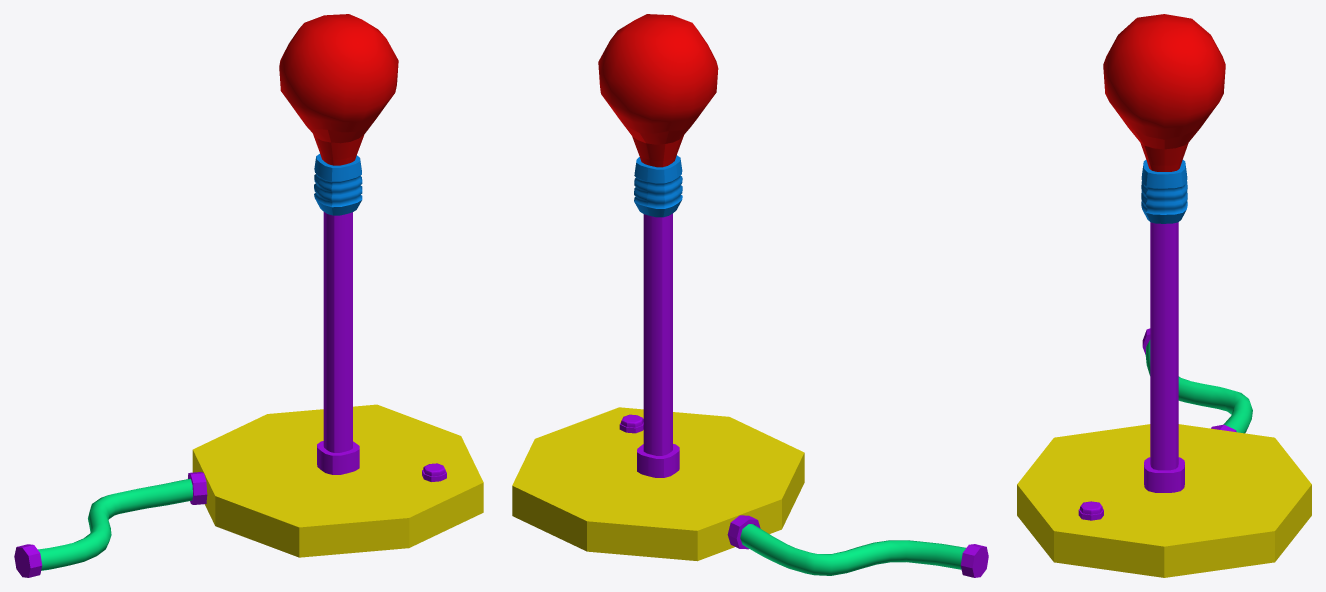
File: nightlamp_high.fbx
3 renders of one model, left to right at view 1: azimuth 30°, elevation 25°; view 2: azimuth 150°, elevation 25°; view 3: azimuth 270°, elevation 25°, orthographic. The views are drawn at different scales.
Parts seen in each view (by area): view 1: geo_nighttablelamp_low; view 2: geo_nighttablelamp_low; view 3: geo_nighttablelamp_low.
Boxes of the visible parts, box(x1,y1,x2,y2) form: geo_nighttablelamp_low: box(14, 14, 483, 577); geo_nighttablelamp_low: box(512, 14, 988, 577); geo_nighttablelamp_low: box(1017, 14, 1311, 577).
Size of the model in its own units: 43.96 by 45.4 by 24.5.
